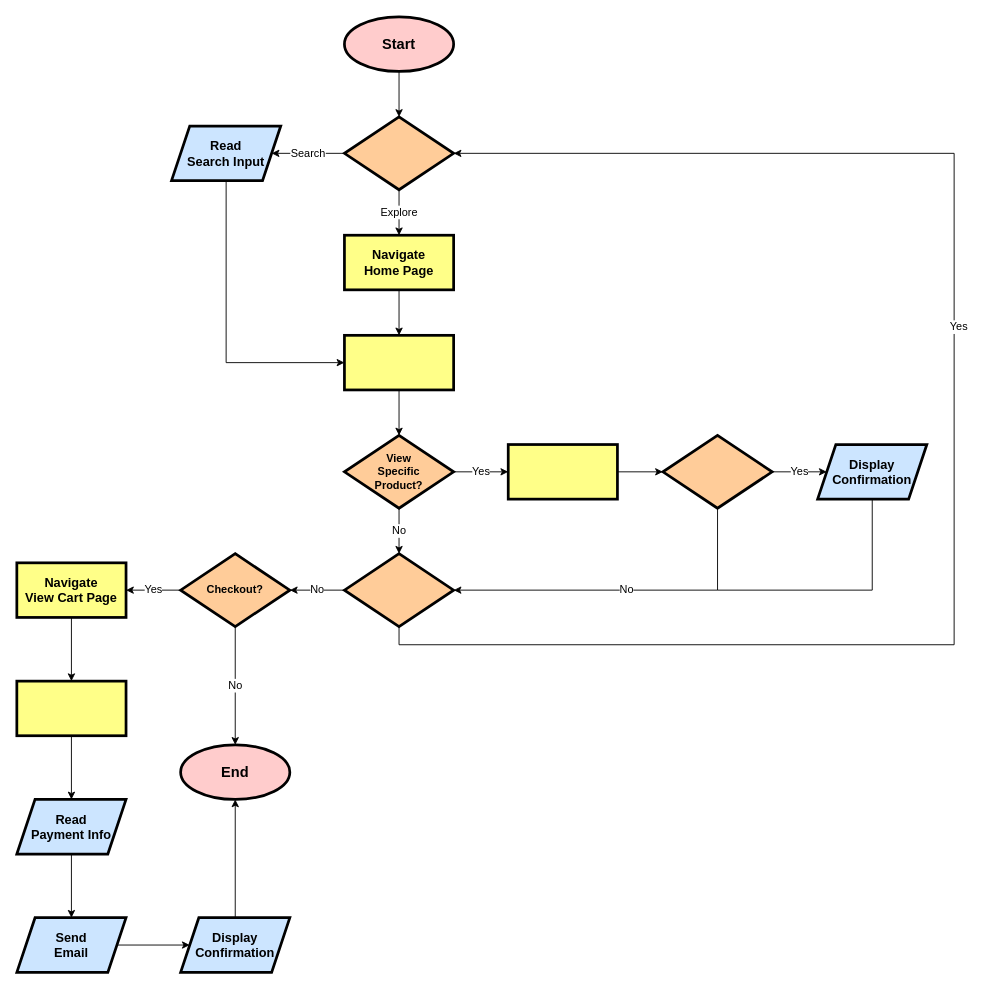
This 983x989 diagram has some shape labels left out. The shapes that lost their labels are listed below. From the top down, each one's box as (x1, y1, x2, y2) in pixels, then its label:
(343, 115, 455, 191): Search or Explore
(343, 334, 455, 391): Browse Products
(506, 443, 618, 500): Navigate Product Page
(661, 434, 773, 509): Add Item to Cart?
(343, 552, 455, 627): Continue Shopping?
(15, 679, 127, 737): Navigate View Payment
